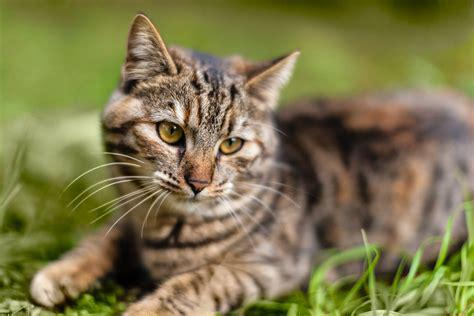cat: (30, 13, 474, 316)
